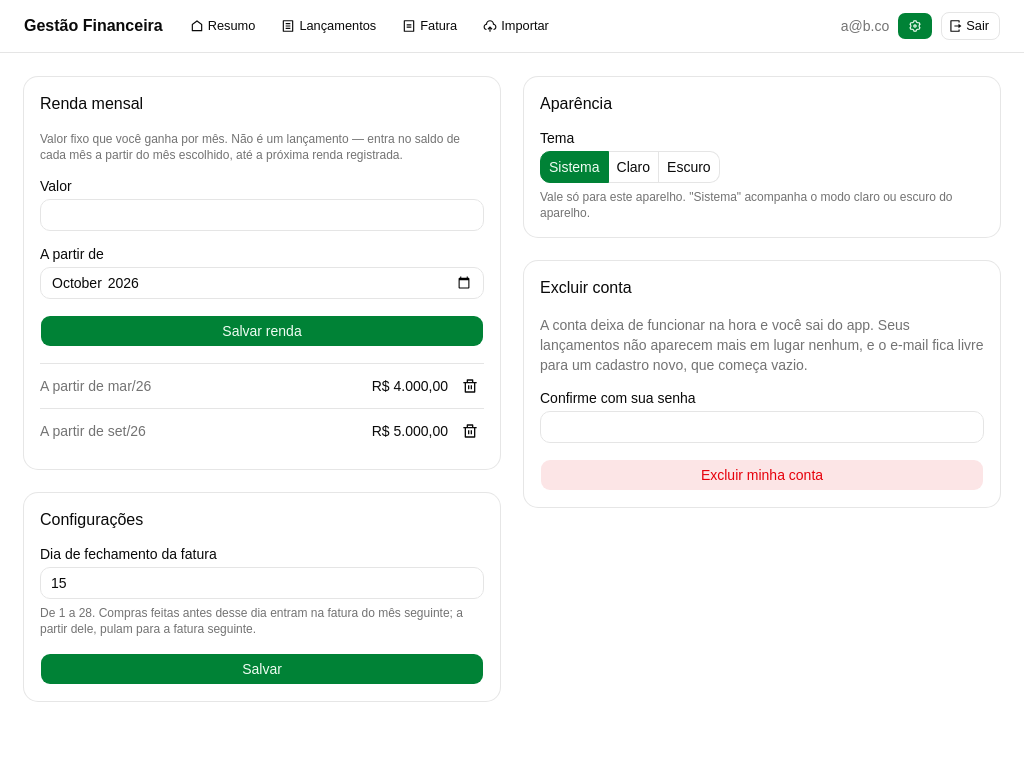
ConfigScreen › salva o dia de fechamento como número e confirma na tela
Replace the text in the number field labelled "Dia de fechamento da fatura" with "5" at (262, 583), box [40,567,484,599]
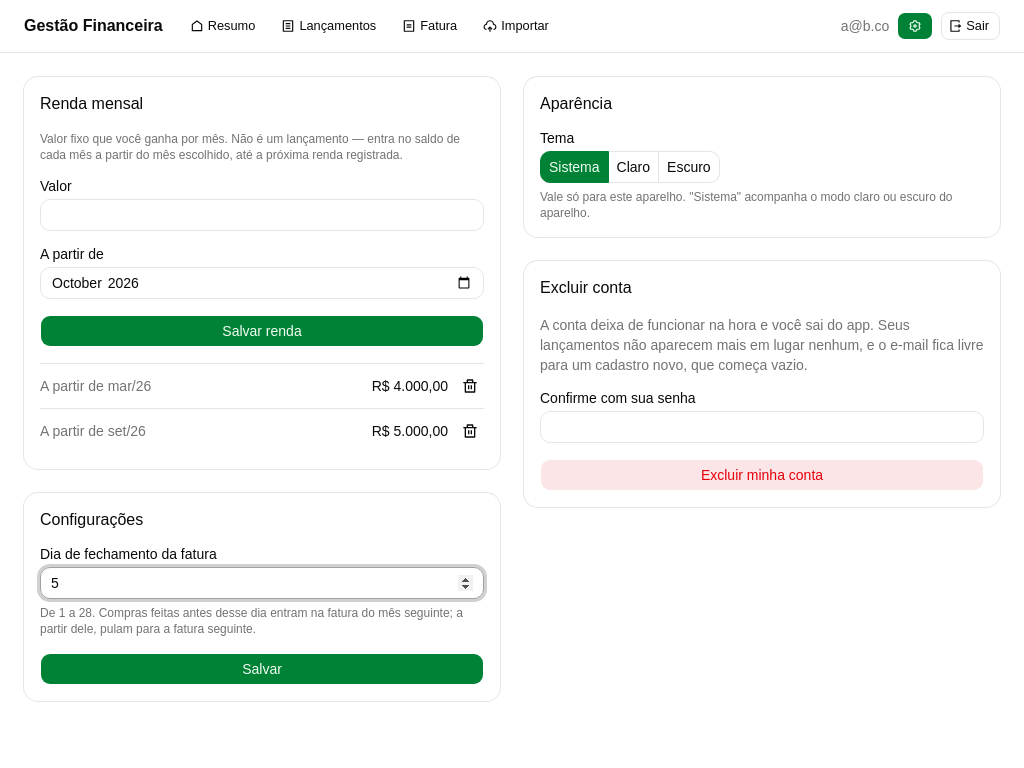
Click the button "Salvar" at (262, 669), box [40,653,484,685]
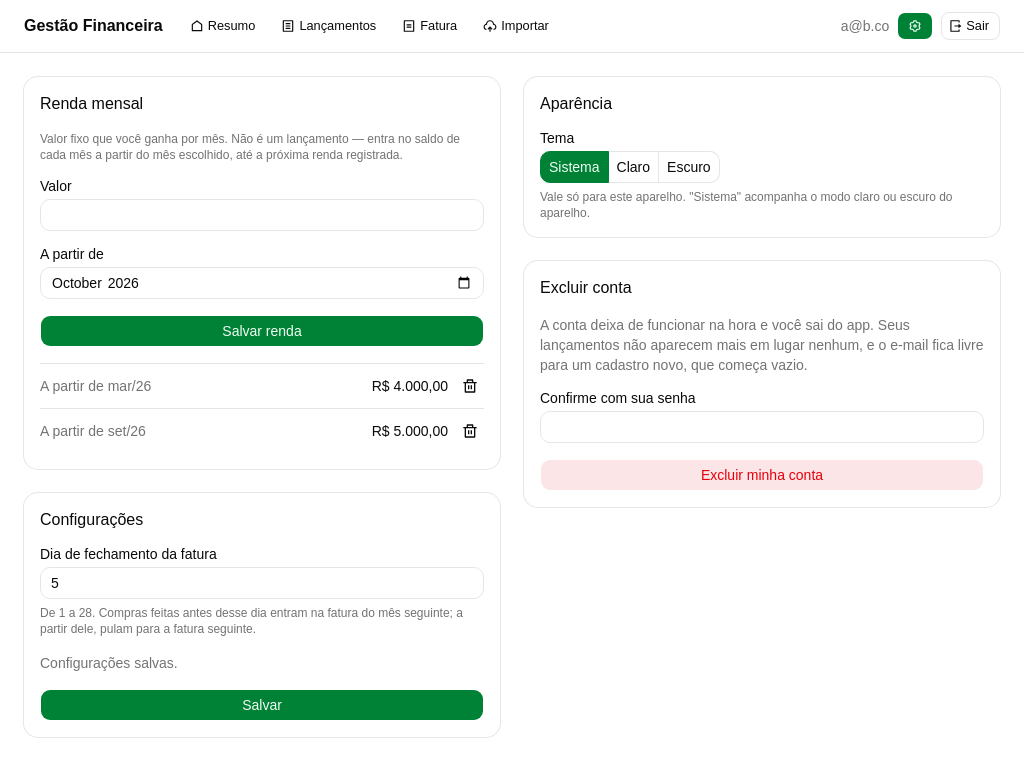
Expected: the text "Configurações salvas." is shown, [40,655,178,671]
